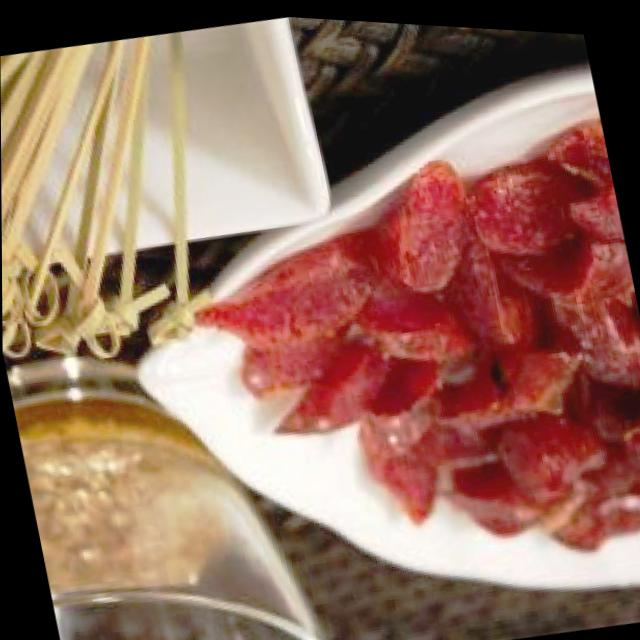chinese_sausage: (168, 88, 640, 620)
